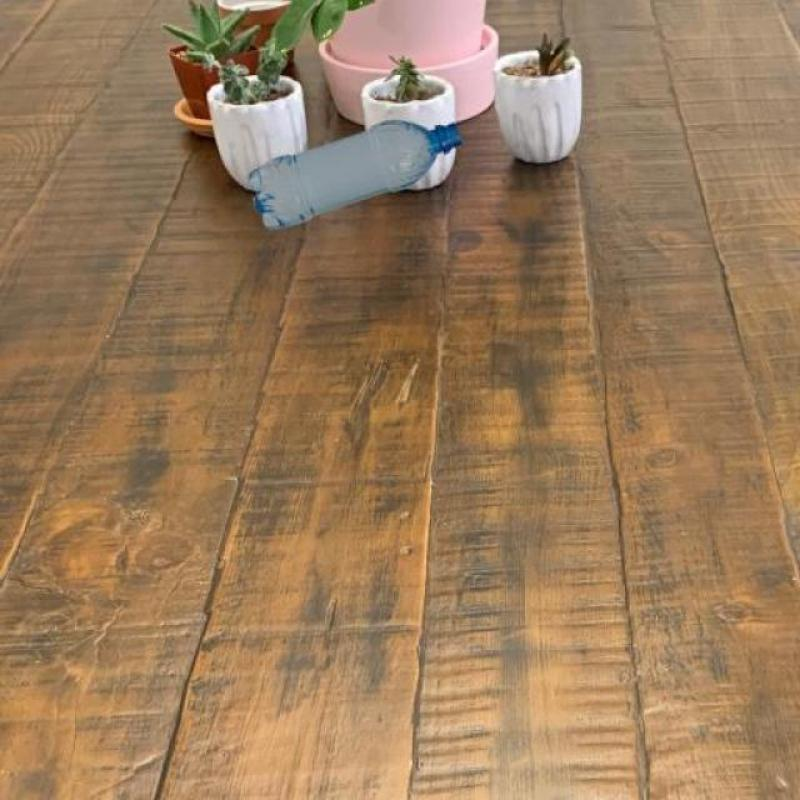botella: (246, 120, 464, 231)
